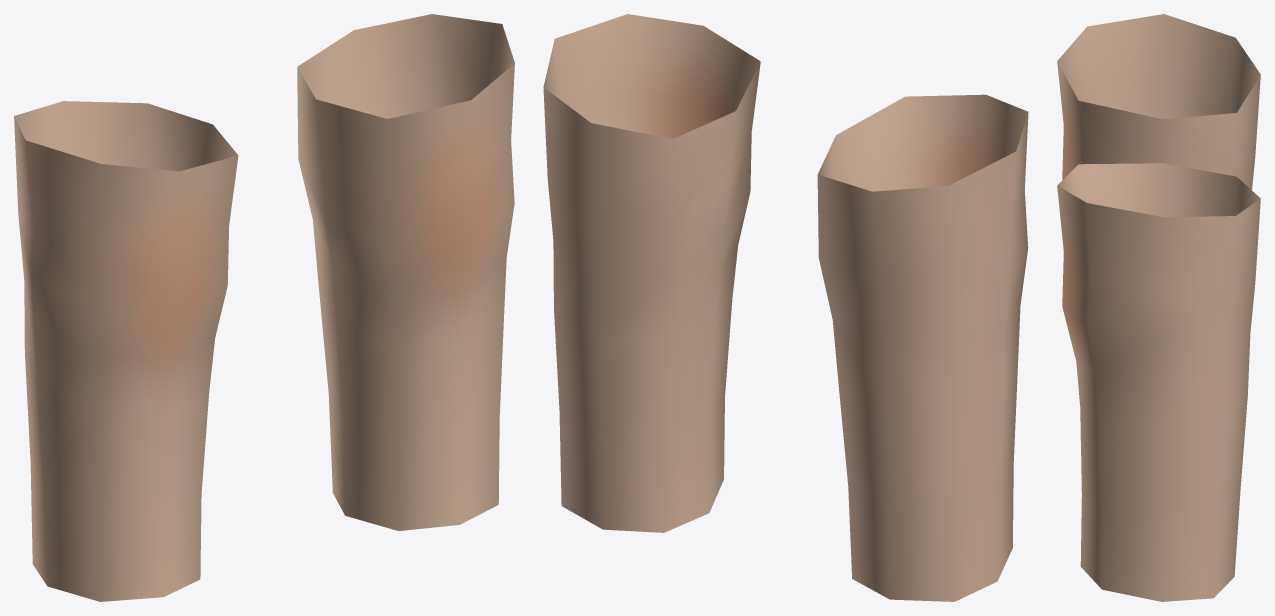
The model's file is Body_LegB_2.fbx.
3 views of the same model, side by side, from view 1: azimuth 30°, elevation 25°; view 2: azimuth 150°, elevation 25°; view 3: azimuth 270°, elevation 25° (orthographic). The views are drawn at different scales.
Visible parts, largest first — view 1: Body_LegB_2; view 2: Body_LegB_2; view 3: Body_LegB_2.
Part boxes in pixels (x1=…): Body_LegB_2: x1=14, y1=14, x2=514, y2=601; Body_LegB_2: x1=543, y1=14, x2=1028, y2=601; Body_LegB_2: x1=1057, y1=14, x2=1260, y2=601.
Bounding box in the file's own units: 32.69 × 29.91 × 13.84.
